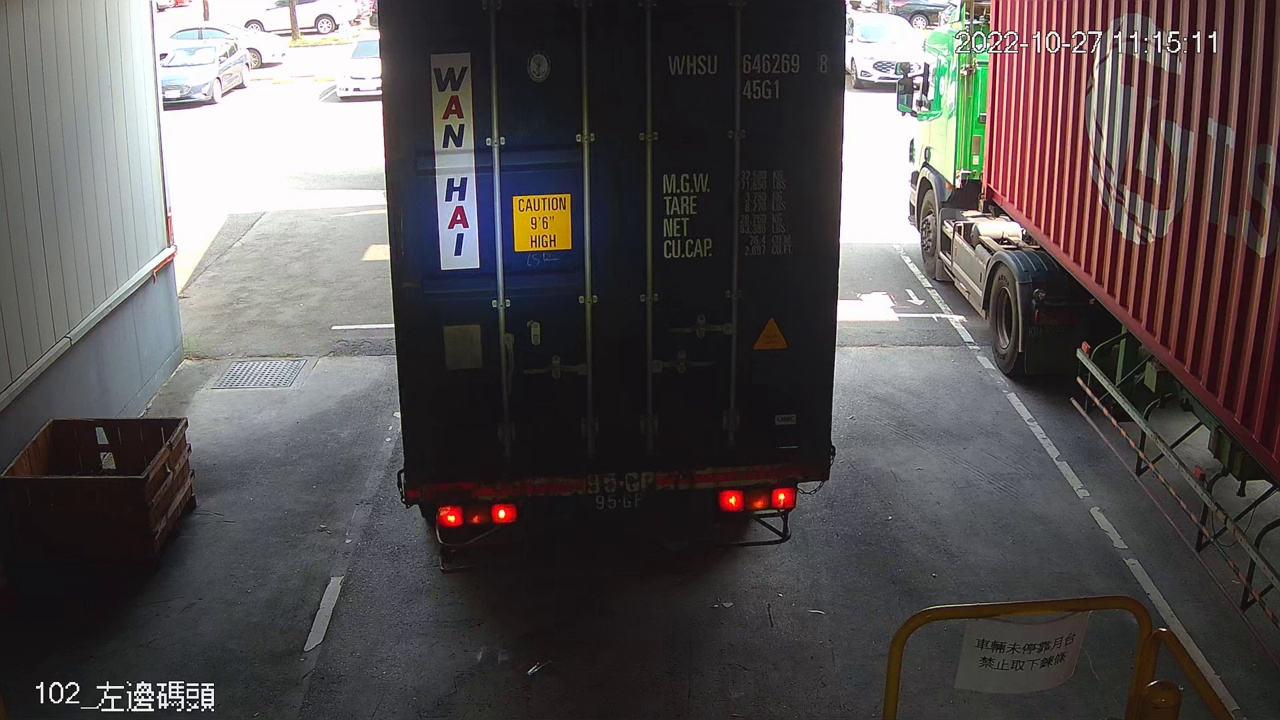container: (659, 43, 834, 105)
